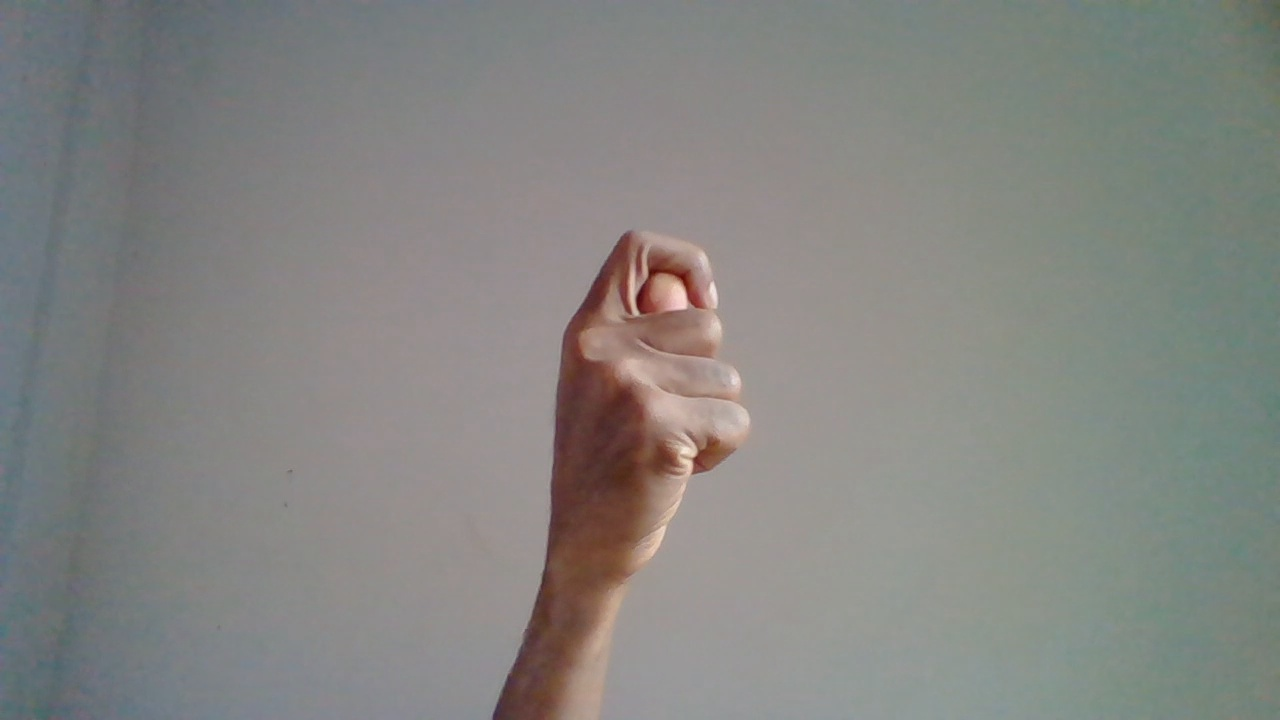che: (545, 227, 751, 683)
